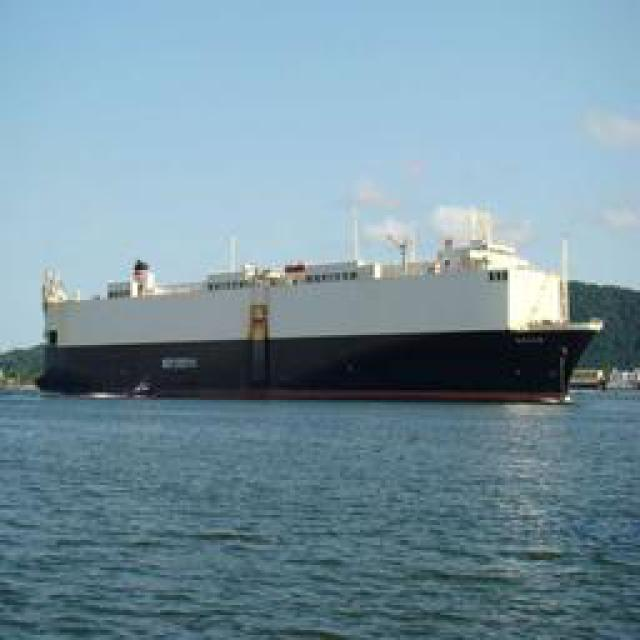Ship: (31, 230, 619, 403)
